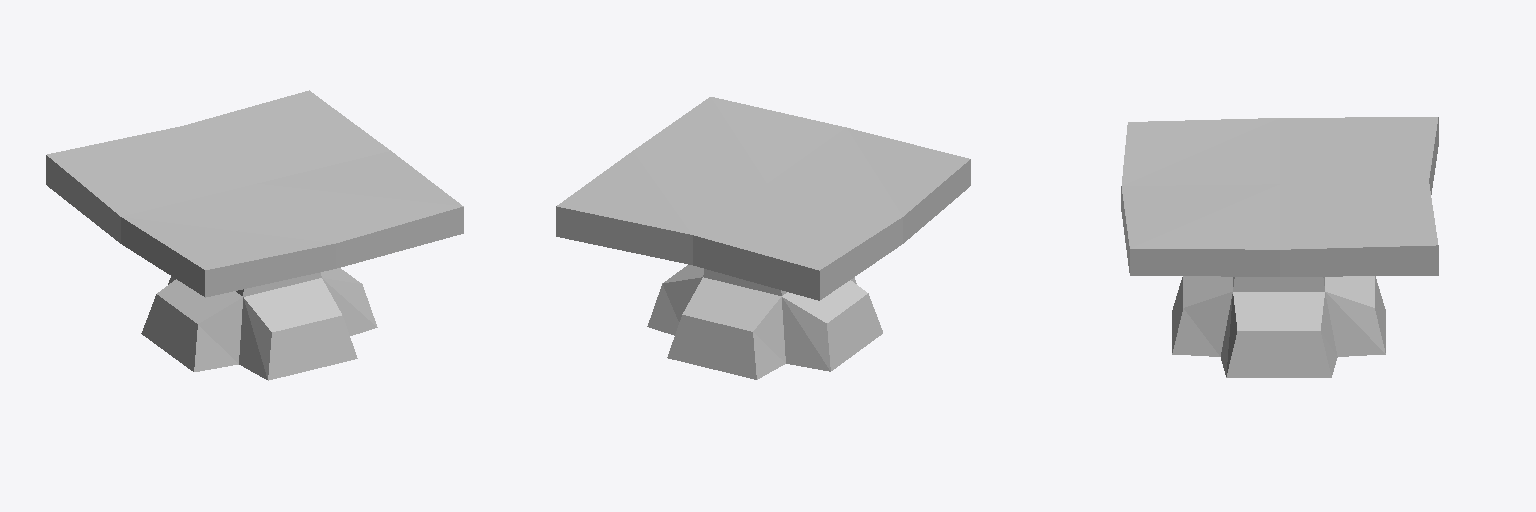
Rendered from inntablesmall.obj.
3 renders of one model, left to right at view 1: azimuth 30°, elevation 25°; view 2: azimuth 150°, elevation 25°; view 3: azimuth 270°, elevation 25°, orthographic.
Visible parts, largest first — view 1: inntablesmall1, inntablesmall2, inntablesmall0; view 2: inntablesmall1, inntablesmall2, inntablesmall0; view 3: inntablesmall1, inntablesmall2, inntablesmall0.
Part boxes in pixels (x1,y1,x2,y2): inntablesmall1: (46, 90, 463, 297); inntablesmall2: (141, 268, 361, 380); inntablesmall0: (168, 276, 377, 379); inntablesmall1: (556, 97, 970, 300); inntablesmall2: (662, 265, 882, 379); inntablesmall0: (647, 277, 856, 379); inntablesmall1: (1121, 117, 1438, 276); inntablesmall2: (1172, 276, 1385, 377); inntablesmall0: (1172, 292, 1385, 376).
Bounding box in the file's own units: 2.13 × 1.13 × 2.16.